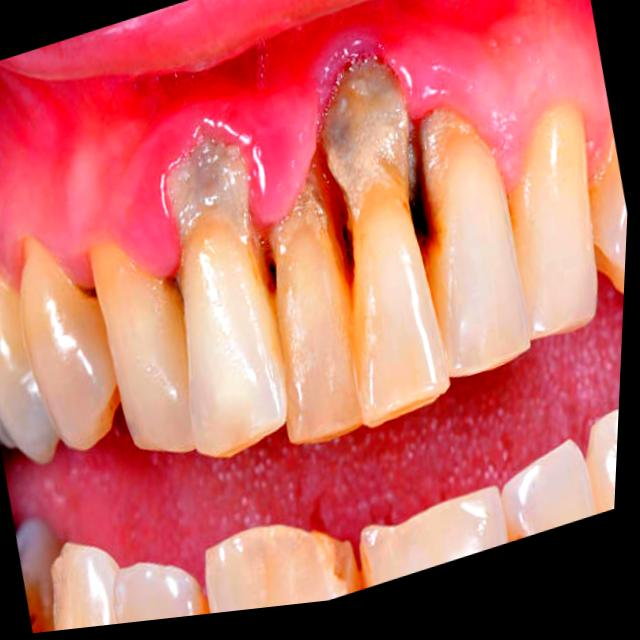gingivitis: (0, 0, 611, 284)
